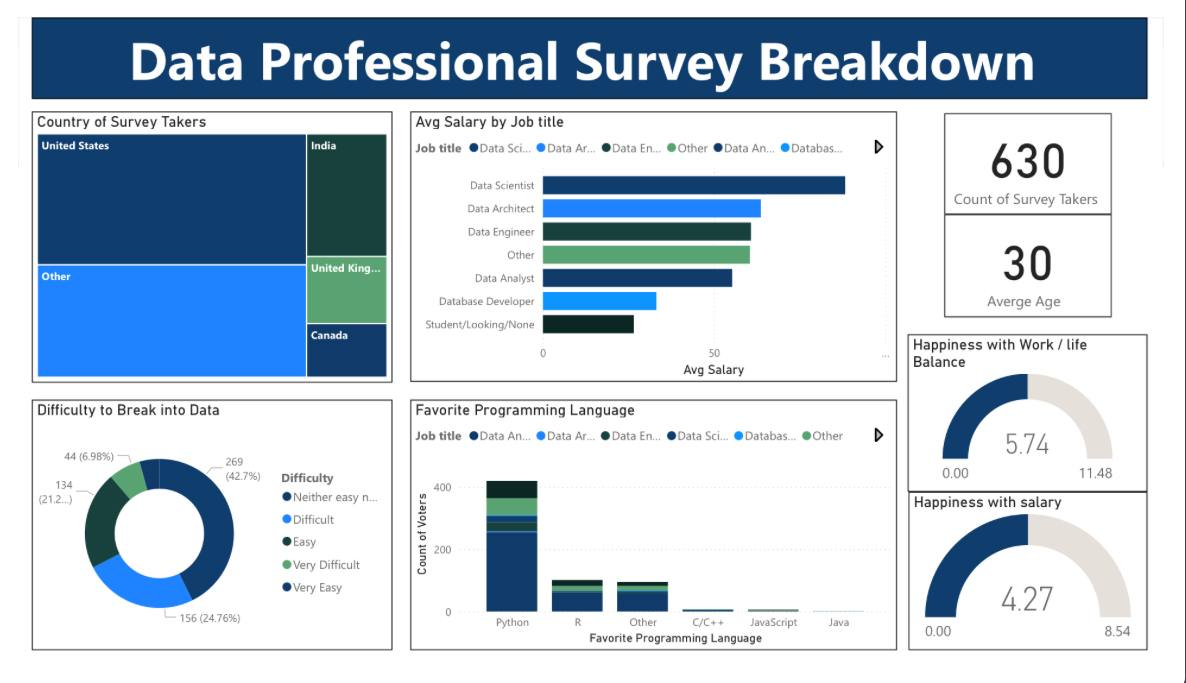

The page's visual inventory and layout, read from the dashboard file:
{"tool":"powerbi","page":{"name":"Page 1","canvas":[1280,720],"ordinal":0},"visuals":[{"type":"card","fields":{"Values":["Count(Data Professional Survey.Unique ID)"]},"box":[1035,106.7,186.7,113.3],"z":0},{"type":"card","fields":{"Values":["Avg(Data Professional Survey.Q10 - Current Age)"]},"box":[1035,220,186.7,115],"z":1000},{"type":"columnChart","title":"Favorite Programming Language","fields":{"Category":["Data Professional Survey.Q5 - Favorite Programming Language.1"],"Y":["CountNonNull(Data Professional Survey.Unique ID)"],"Series":["Data Professional Survey.Q1 - Which Title Best Fits your Current Role?.1"]},"box":[438.3,426.7,543.3,280],"z":2000},{"type":"treemap","title":"Country of Survey Takers ","fields":{"Group":["Data Professional Survey.Q11 - Which Country do you live in?.1"],"Values":["CountNonNull(Data Professional Survey.Q11 - Which Country do you live in?.1)"]},"box":[15,105,403.3,303.3],"z":3000},{"type":"gauge","fields":{"Y":["Avg(Data Professional Survey.Q6 - How Happy are you in your Current Position with the following? (Salary))"]},"box":[995,530,266.7,176.7],"z":5000},{"type":"gauge","title":"Happiness with Work / life Balance","fields":{"Y":["Avg(Data Professional Survey.Q6 - How Happy are you in your Current Position with the following? (Work/Life Balance))"]},"box":[994.2,353.6,268.1,176.8],"z":6000},{"type":"donutChart","title":"Difficulty to Break into Data ","fields":{"Category":["Data Professional Survey.Q7 - How difficult was it for you to break into Data?"],"Y":["CountNonNull(Data Professional Survey.Q7 - How difficult was it for you to break into Data?)"]},"box":[15,426.7,403.3,280],"z":7000},{"type":"barChart","title":"Avg Salary  by Job title","fields":{"Category":["Data Professional Survey.Q1 - Which Title Best Fits your Current Role?.1"],"Y":["Avg(Data Professional Survey.AVG Salary )"],"Series":["Data Professional Survey.Q1 - Which Title Best Fits your Current Role?.1"]},"box":[438.3,105,543.3,301.7],"z":8000},{"type":"textbox","box":[0,0,1279.8,91.1],"z":9000}]}

Visuals, with their boxes in screenshot pixels (x1, y1, x2, y2), scaled from the page's 1280x720 canvas onto the 1186x683 screenshot:
card - Count(Data Professional Survey.Unique ID): box=[959, 101, 1132, 209]
card - Avg(Data Professional Survey.Q10 - Current Age): box=[959, 209, 1132, 318]
"Favorite Programming Language" columnChart: box=[406, 405, 910, 670]
"Country of Survey Takers " treemap: box=[14, 100, 388, 387]
gauge - Avg(Data Professional Survey.Q6 - How Happy are you in your Current Position with the following? (Salary)): box=[922, 503, 1169, 670]
"Happiness with Work / life Balance" gauge: box=[921, 335, 1170, 503]
"Difficulty to Break into Data " donutChart: box=[14, 405, 388, 670]
"Avg Salary  by Job title" barChart: box=[406, 100, 910, 386]
textbox: box=[0, 0, 1185, 86]
